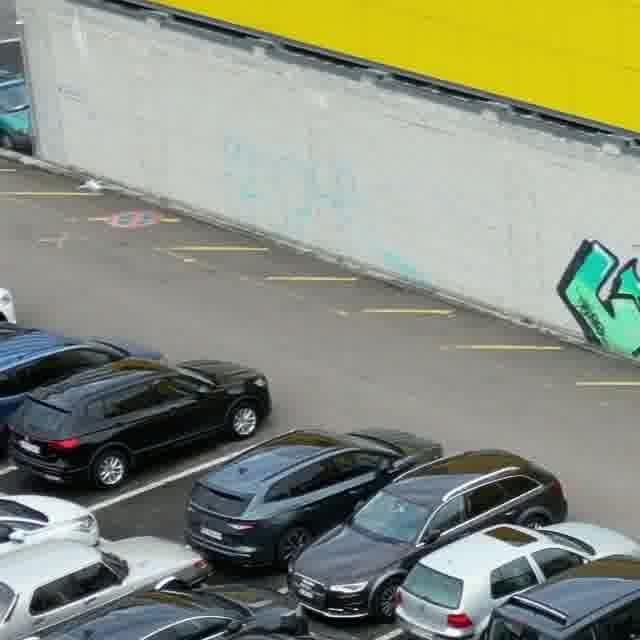Drohne: (76, 178, 106, 194)
